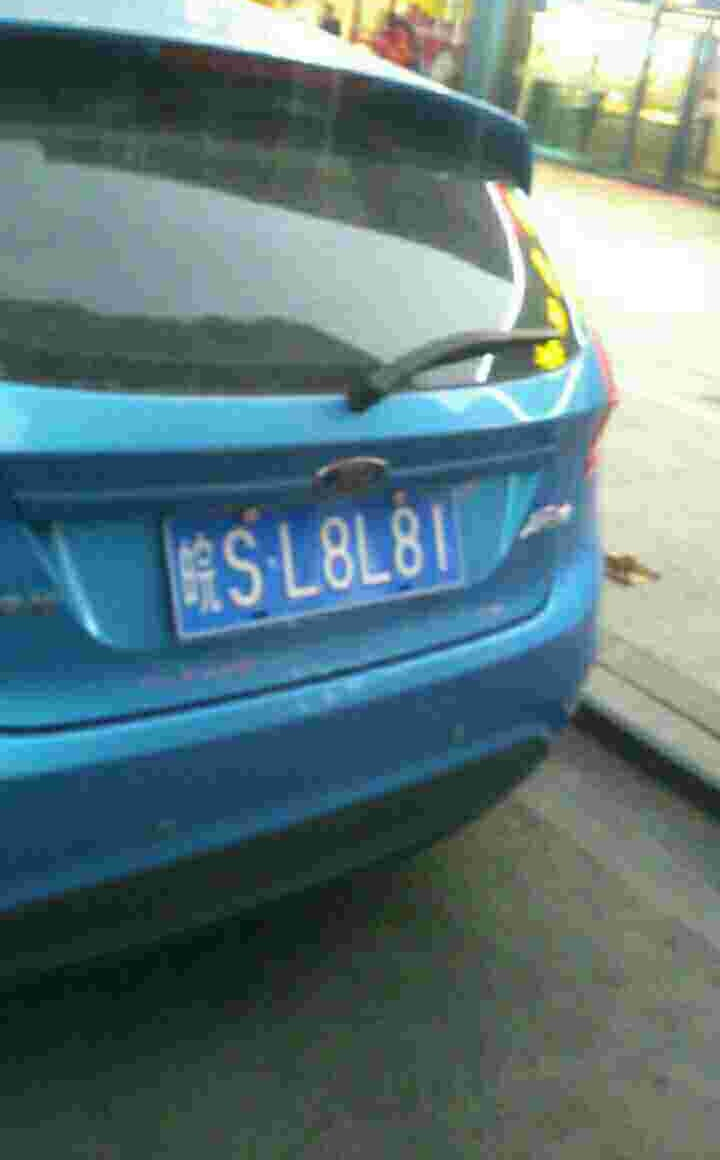license_plate: (172, 483, 478, 625)
